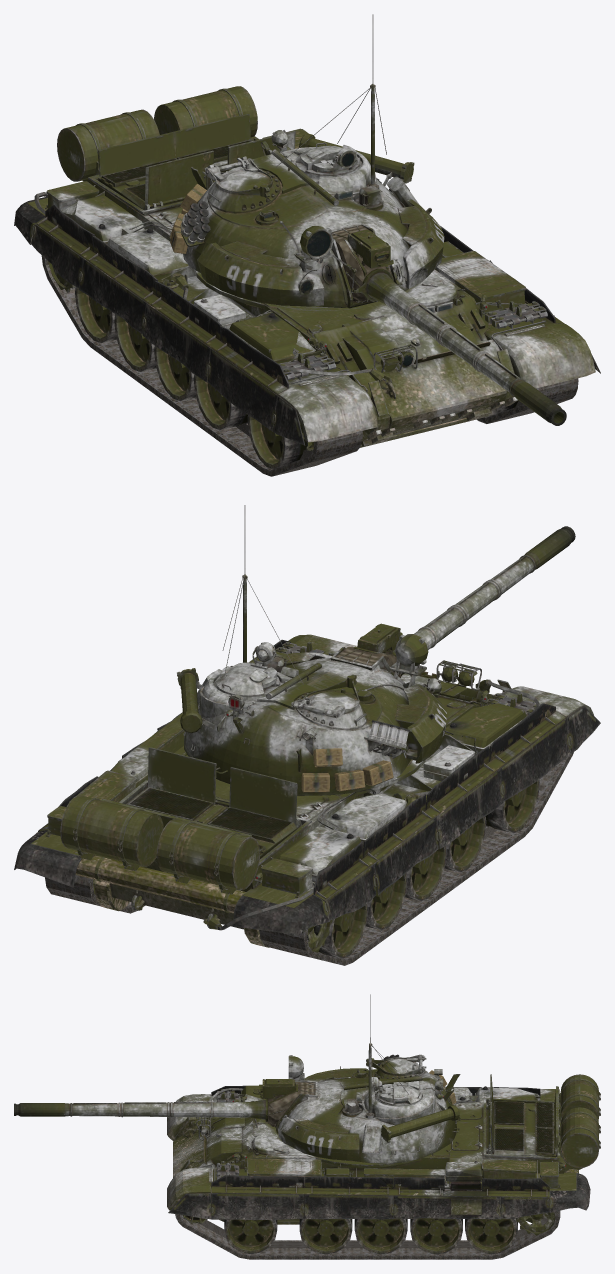
File: t55am1_cmd.obj
3 views of the same model, one above another, from view 1: azimuth 30°, elevation 25°; view 2: azimuth 150°, elevation 25°; view 3: azimuth 270°, elevation 25° (orthographic). The views are drawn at different scales.
Parts seen in each view (by area): view 1: model_1_0, model_1_1; view 2: model_1_0, model_1_1; view 3: model_1_0, model_1_1.
Boxes of the visible parts, x1=… form: model_1_0: x1=14, y1=14, x2=600, y2=469; model_1_1: x1=41, y1=255, x2=578, y2=476; model_1_0: x1=14, y1=505, x2=600, y2=958; model_1_1: x1=45, y1=752, x2=573, y2=965; model_1_0: x1=14, y1=994, x2=600, y2=1254; model_1_1: x1=175, y1=1188, x2=560, y2=1259.
Bounding box in the file's own units: 8.31 × 9.14 × 19.99.
2 materials, 2 textured.
